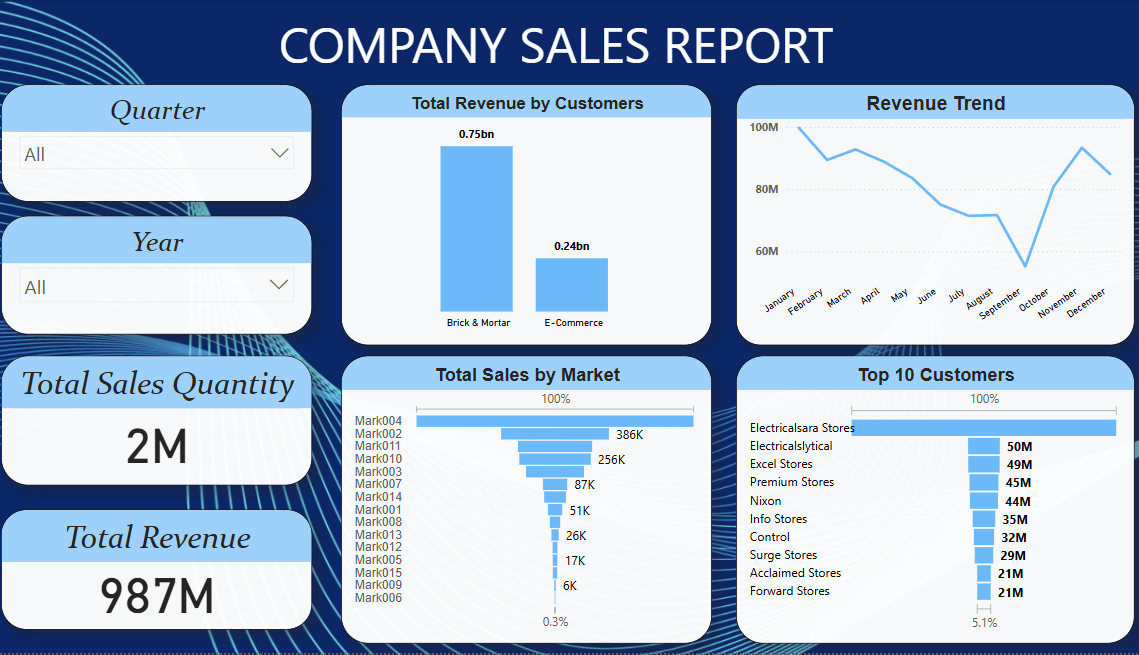

Layout of this report page (visuals, bound fields, positions):
{"tool":"powerbi","page":{"name":"Page 1","canvas":[1280,720],"ordinal":0},"visuals":[{"type":"card","title":"Total Revenue","fields":{"Values":["Sum(Sales Transactions.Revenue)"]},"box":[16.5,562.6,341.7,131.7],"z":0},{"type":"card","title":"Total Sales Quantity","fields":{"Values":["Sum(Sales Transactions.sales_qty)"]},"box":[16.5,393.8,341.7,142.7],"z":2000},{"type":"columnChart","title":"Total Revenue by Customers","fields":{"Category":["Customers.customer_type"],"Y":["Sum(Sales Transactions.Revenue)"]},"box":[389.7,96.1,407.5,286.8],"z":3000},{"type":"slicer","title":"Year","fields":{"Values":["Sales Transactions.order_date.Variation.Date Hierarchy.Year"]},"box":[16.5,240.1,341.7,130.4],"z":4000},{"type":"funnel","title":"Total Sales by Market","fields":{"Category":["Sales Transactions.market_code"],"Y":["Sum(Sales Transactions.sales_qty)"]},"box":[389.7,393.8,407.5,315.6],"z":5000},{"type":"lineChart","title":"Revenue Trend","fields":{"Y":["Sum(Sales Transactions.Revenue)"],"Category":["Sales Transactions.order_date.Variation.Date Hierarchy.Month"]},"box":[823.3,96.1,437.7,286.8],"z":6000},{"type":"funnel","title":"Top 10 Customers","fields":{"Category":["Customers.custmer_name"],"Y":["Sum(Sales Transactions.sales_amount2)"]},"box":[823.3,393.8,437.7,315.6],"z":7000},{"type":"slicer","title":"Quarter","fields":{"Values":["Sales Transactions.order_date.Variation.Date Hierarchy.Quarter"]},"box":[16.5,96.1,341.7,129],"z":8000},{"type":"textbox","box":[118,9.6,1015.4,111.1],"z":8001}]}

Visuals, with their boxes in screenshot pixels (x1, y1, x2, y2), scaled from the page's 1280x720 canvas onto the 1139x655 screenshot:
"Total Revenue" card: bbox(15, 512, 319, 632)
"Total Sales Quantity" card: bbox(15, 358, 319, 488)
"Total Revenue by Customers" columnChart: bbox(347, 87, 709, 348)
"Year" slicer: bbox(15, 218, 319, 337)
"Total Sales by Market" funnel: bbox(347, 358, 709, 645)
"Revenue Trend" lineChart: bbox(733, 87, 1122, 348)
"Top 10 Customers" funnel: bbox(733, 358, 1122, 645)
"Quarter" slicer: bbox(15, 87, 319, 205)
textbox: bbox(105, 9, 1009, 110)
